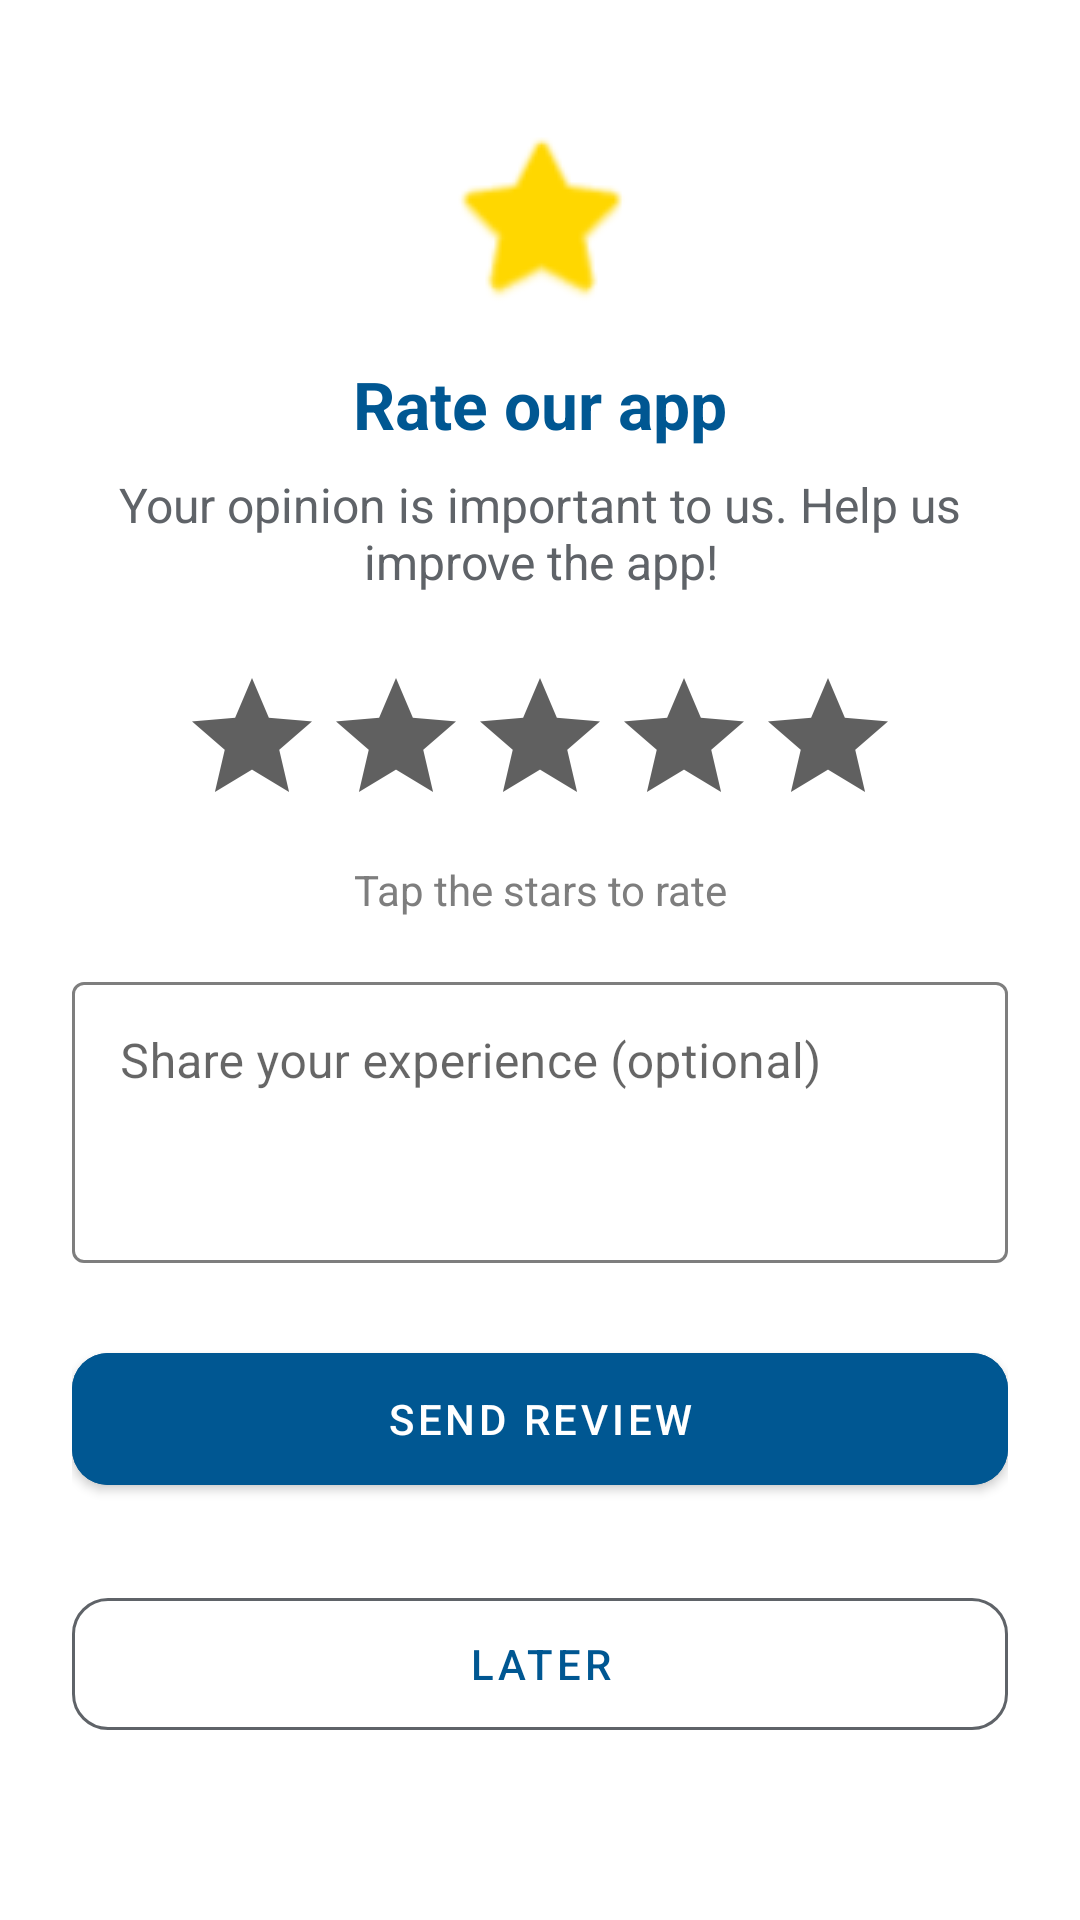

Named icons in this screenshot (1080px x 1920px) and their centers, point (x, y):
star on: point (541, 217)
